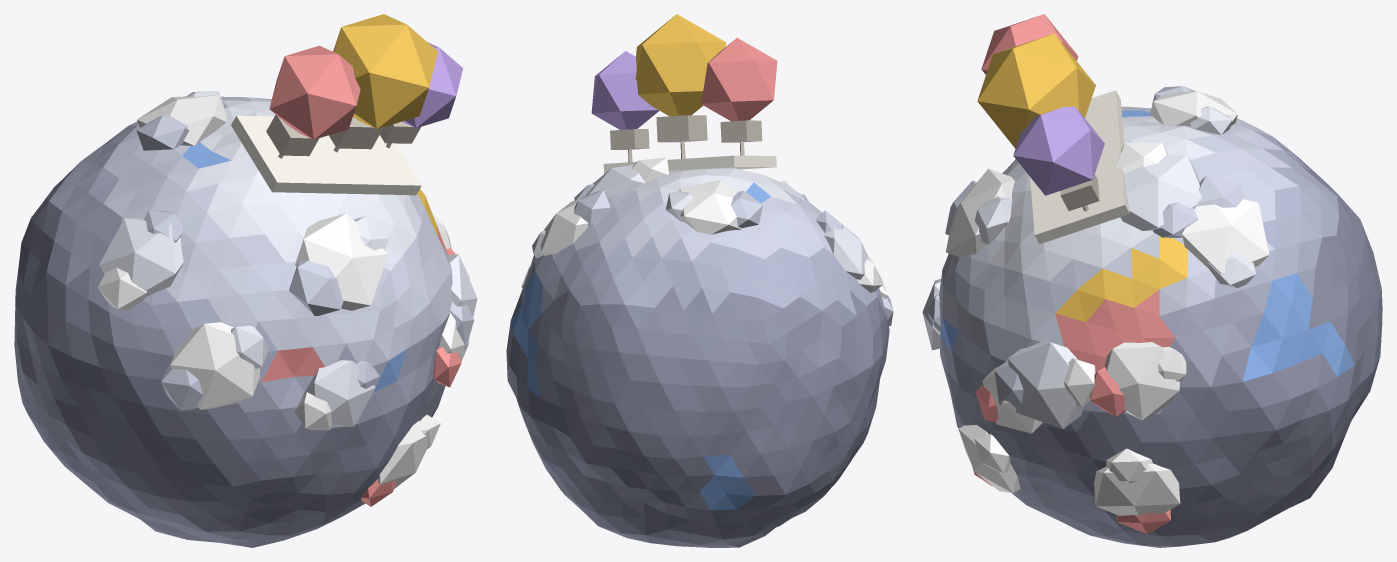
The model's file is Cloud_05.fbx.
The picture shows the model from 3 angles, left to right: view 1: azimuth 30°, elevation 25°; view 2: azimuth 150°, elevation 25°; view 3: azimuth 270°, elevation 25°; orthographic projection. The views are drawn at different scales.
Parts seen in each view (by area): view 1: Cloud_05; view 2: Cloud_05; view 3: Cloud_05.
Part boxes in pixels (x1,y1,x2,y2): Cloud_05: (14, 14, 477, 547); Cloud_05: (506, 14, 893, 547); Cloud_05: (922, 14, 1382, 547).
Size of the model in its own units: 6.23 by 7.86 by 6.24.
1 material, 1 textured.
